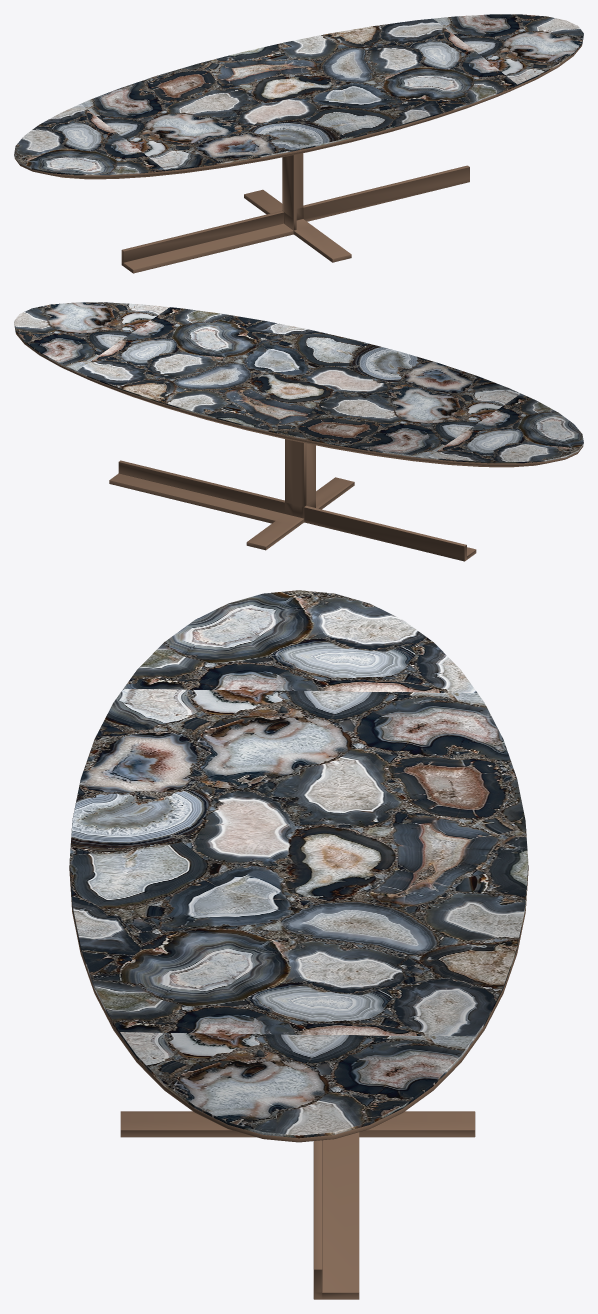
Rendered from SBH_OBLIVIOUS_C.glb.
The picture shows the model from 3 angles, top to bottom: view 1: azimuth 30°, elevation 25°; view 2: azimuth 150°, elevation 25°; view 3: azimuth 270°, elevation 25°; orthographic projection. The views are drawn at different scales.
Visible parts, largest first — view 1: OBLIVIOUS_C; view 2: OBLIVIOUS_C; view 3: OBLIVIOUS_C.
Boxes of the visible parts, x1,y1,x2,y2 form: OBLIVIOUS_C: (14,14,583,273); OBLIVIOUS_C: (14,302,583,561); OBLIVIOUS_C: (69,590,528,1299).
Size of the model in its own units: 1.4 by 0.3196 by 0.4984.
Materials: 2 (1 with a texture image).
